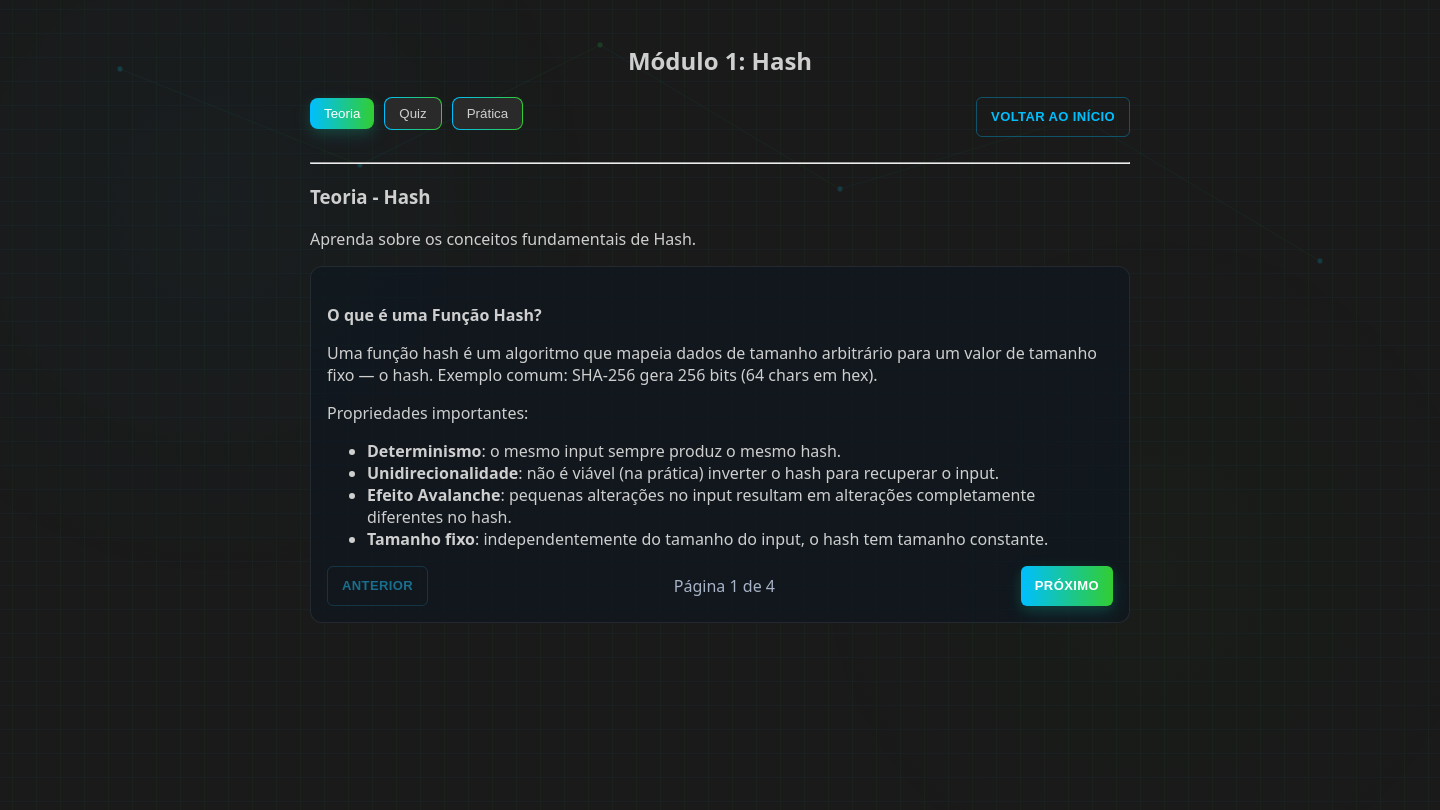
Scenario: HashModule › switches between Teoria, Quiz, and Pratica tabs
Expected: the heading "Teoria - Hash" is shown, 310,184 -> 431,209
Click the button "Quiz".
click(413, 113)  # box 384,97 -> 442,130
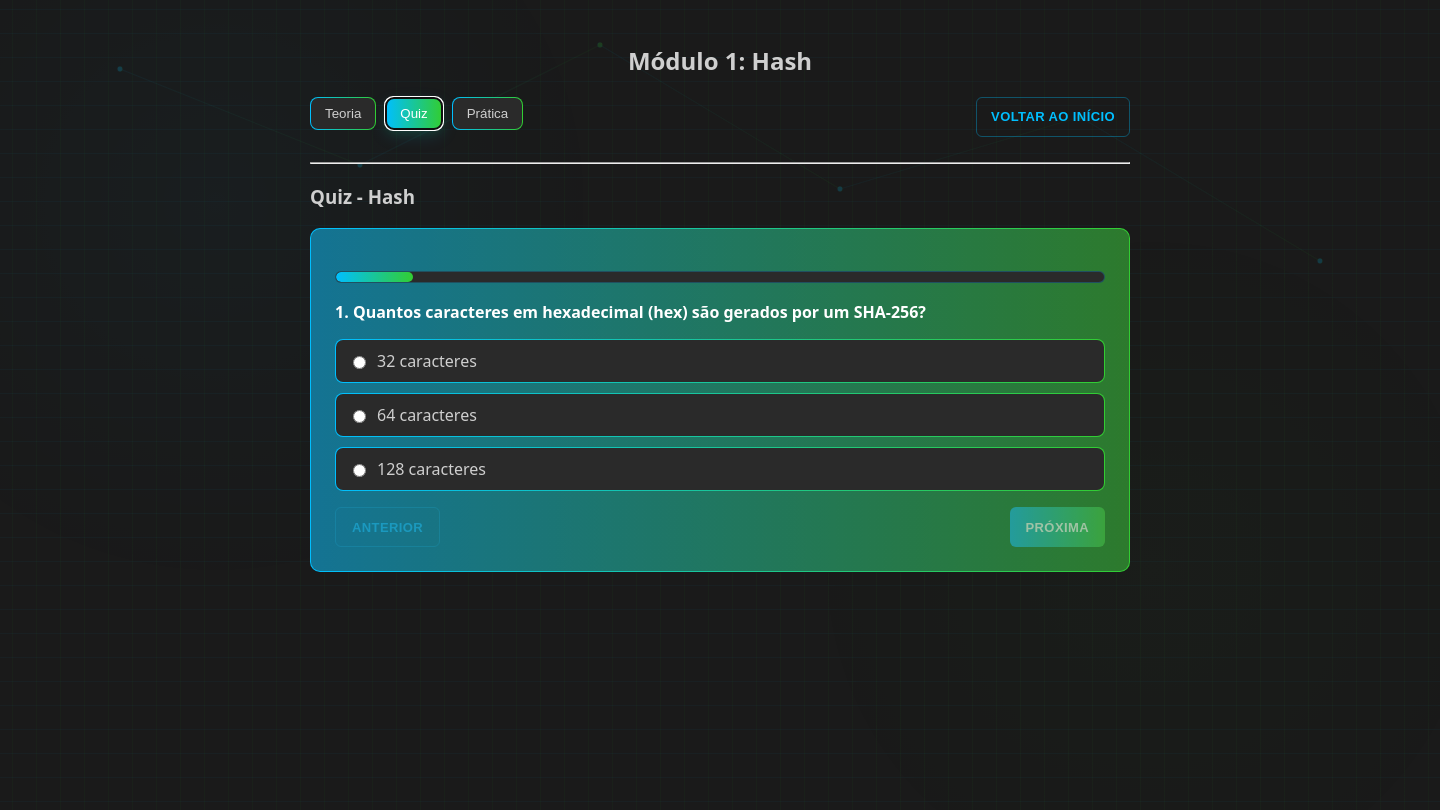
Expected: the heading "Quiz - Hash" is shown, 310,184 -> 415,209
Click the button "Prática".
click(487, 113)  # box 452,97 -> 523,130
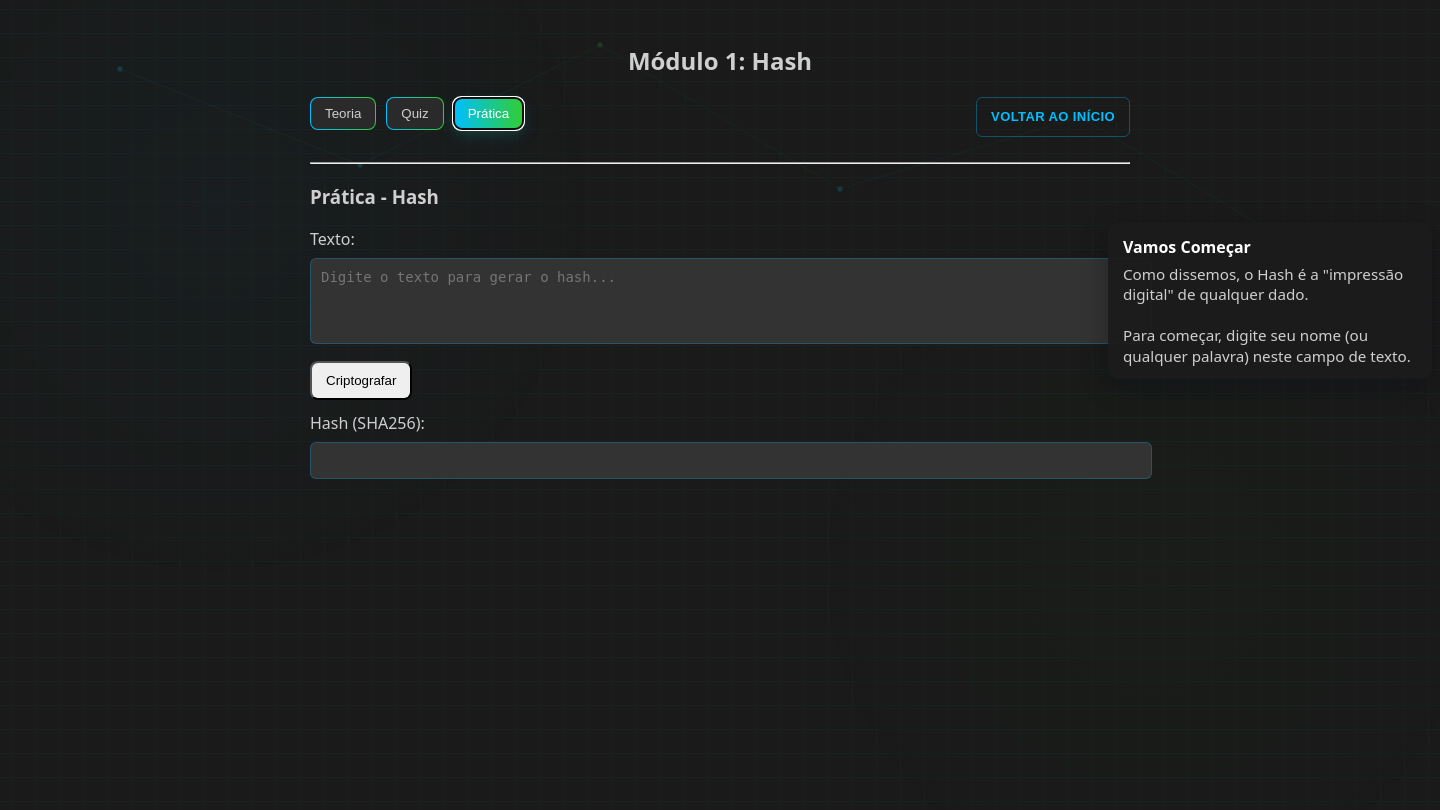
Expected: the heading "Prática - Hash" is shown, 310,184 -> 439,209
